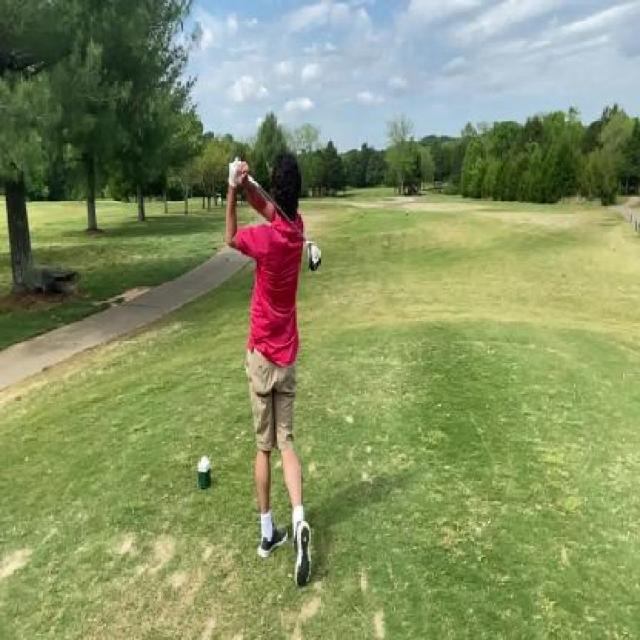club head: (298, 230, 322, 275)
